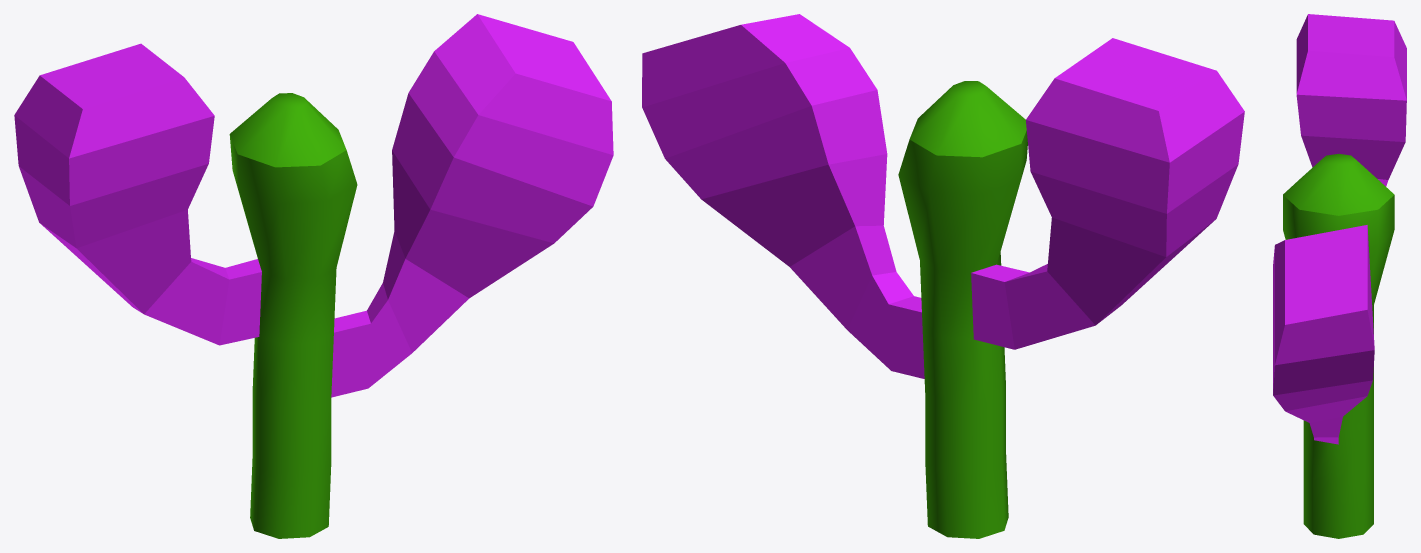
Rendered from ArbreChelou.FBX.
3 renders of one model, left to right at view 1: azimuth 30°, elevation 25°; view 2: azimuth 150°, elevation 25°; view 3: azimuth 270°, elevation 25°, orthographic. The views are drawn at different scales.
Visible parts, largest first — view 1: Cactus; view 2: Cactus; view 3: Cactus.
Boxes of the visible parts, x1,y1,x2,y2 form: Cactus: (14, 14, 613, 538); Cactus: (642, 14, 1244, 538); Cactus: (1273, 14, 1406, 538).
Size of the model in its own units: 46.47 by 39.72 by 11.42.
